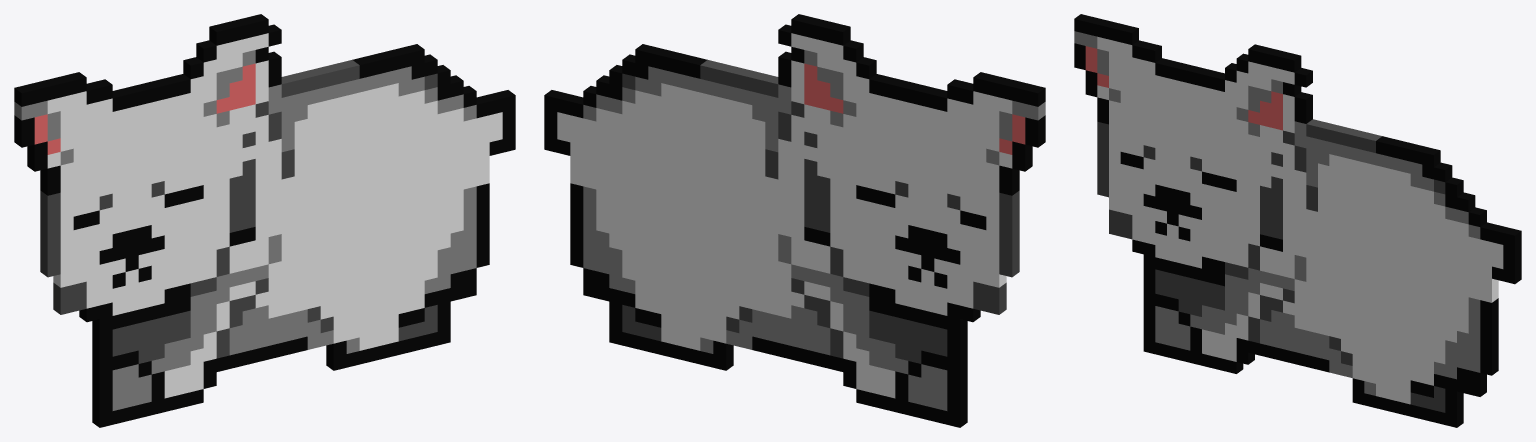
The model's file is potatoIcon2.obj.
3 renders of one model, left to right at view 1: azimuth 30°, elevation 25°; view 2: azimuth 150°, elevation 25°; view 3: azimuth 330°, elevation 25°, orthographic. The views are drawn at different scales.
Bounding box in the file's own units: 3.8 × 2.7 × 0.1.
1 material, 1 textured.
